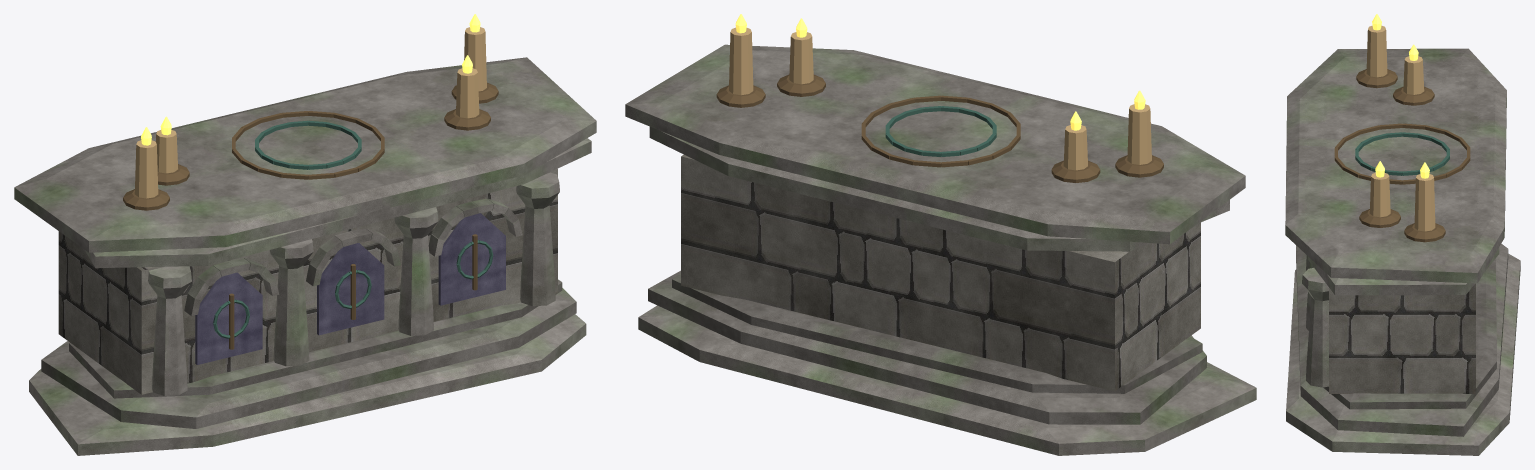
The model's file is vigil-altar.glb.
3 views of the same model, side by side, from view 1: azimuth 30°, elevation 25°; view 2: azimuth 150°, elevation 25°; view 3: azimuth 270°, elevation 25° (orthographic). The views are drawn at different scales.
Parts seen in each view (by area): view 1: vigil-altar; view 2: vigil-altar; view 3: vigil-altar.
Boxes of the visible parts, x1,y1,x2,y2 form: vigil-altar: (14, 14, 596, 455); vigil-altar: (625, 14, 1256, 455); vigil-altar: (1285, 14, 1520, 455).
Bounding box in the file's own units: 3.38 × 1.85 × 1.47.
Materials: 7 (3 with a texture image).
